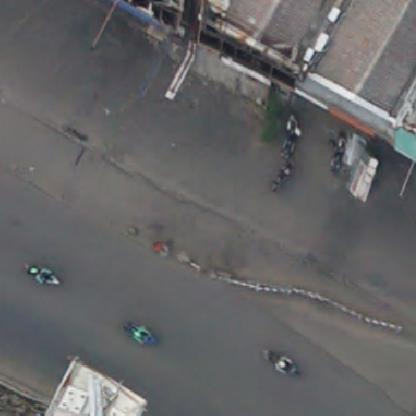motorcycle: (262, 342, 304, 381), (17, 258, 65, 290), (121, 320, 159, 348), (281, 113, 301, 156), (328, 130, 347, 175), (270, 161, 295, 191)
